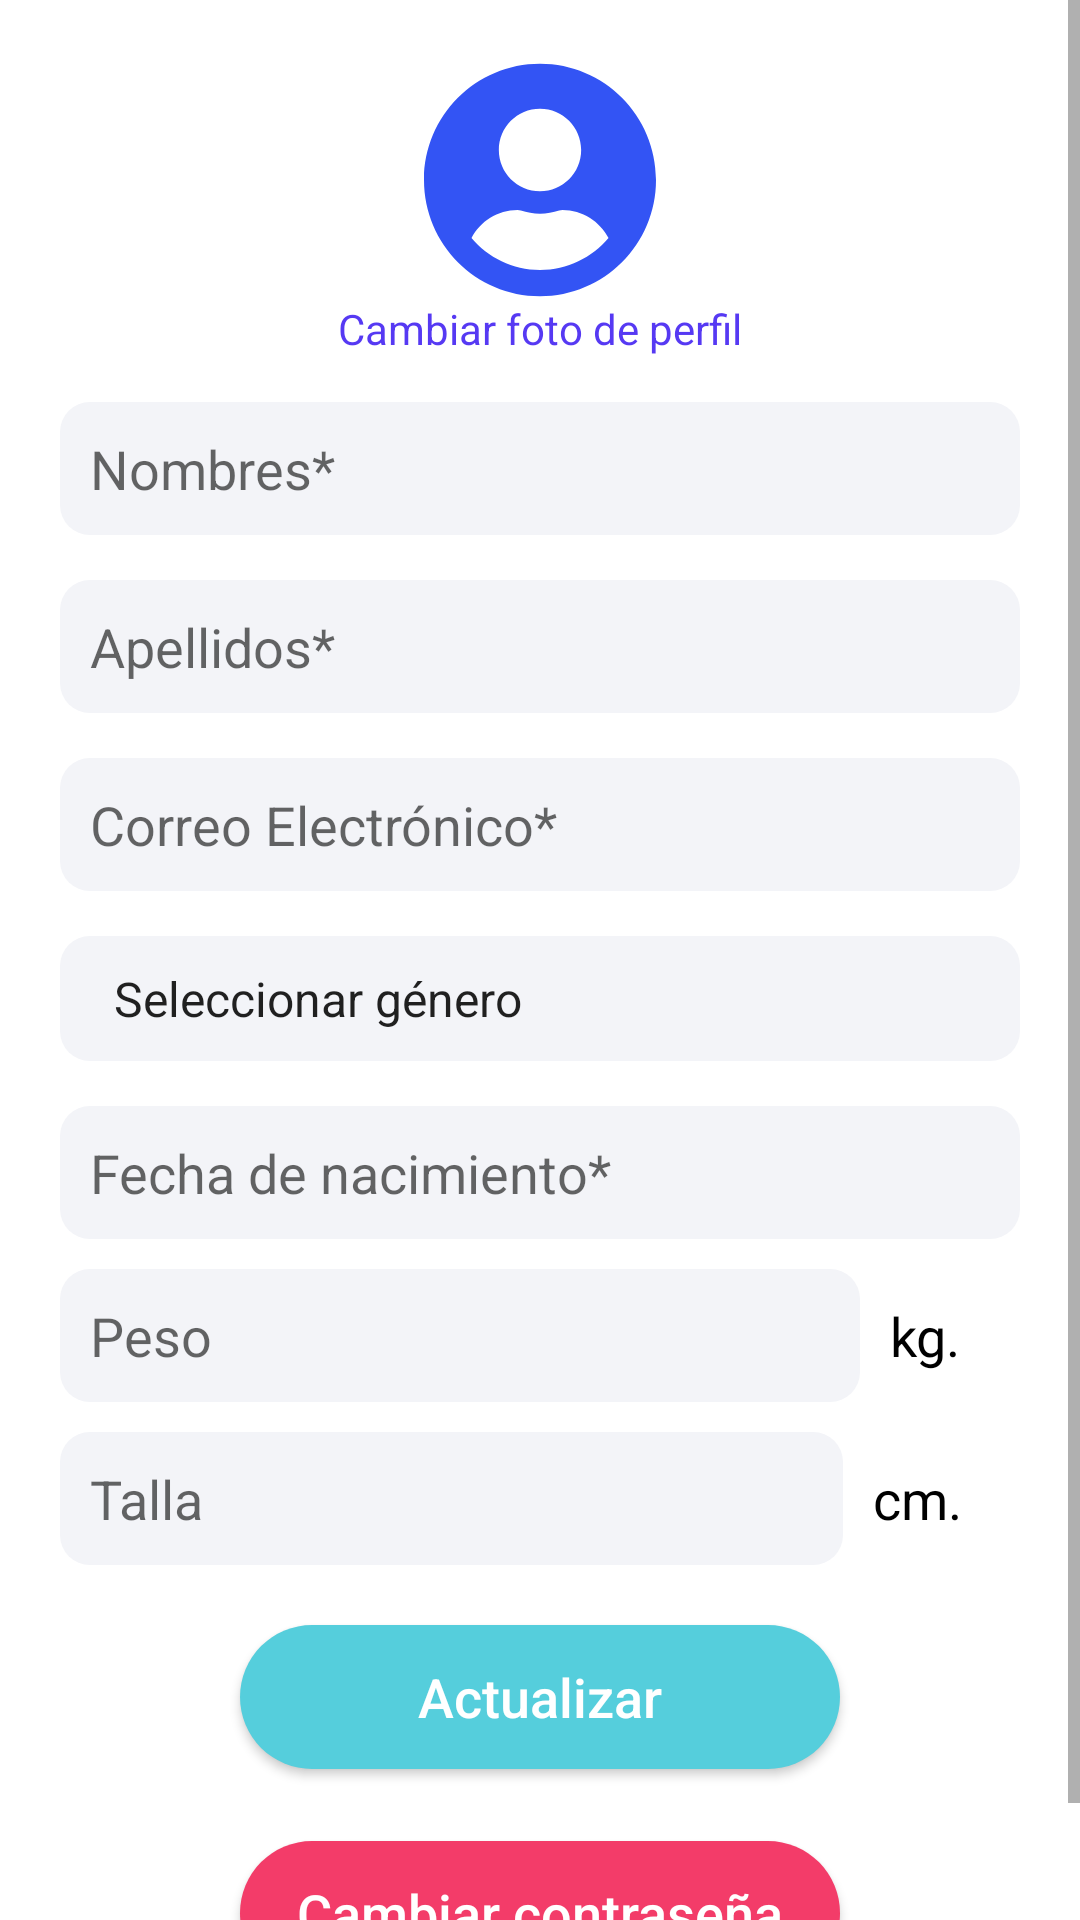

Icon click points for this 1080px x 1920px phone screenshot, format point (x, y):
user circle: point (540, 180)
